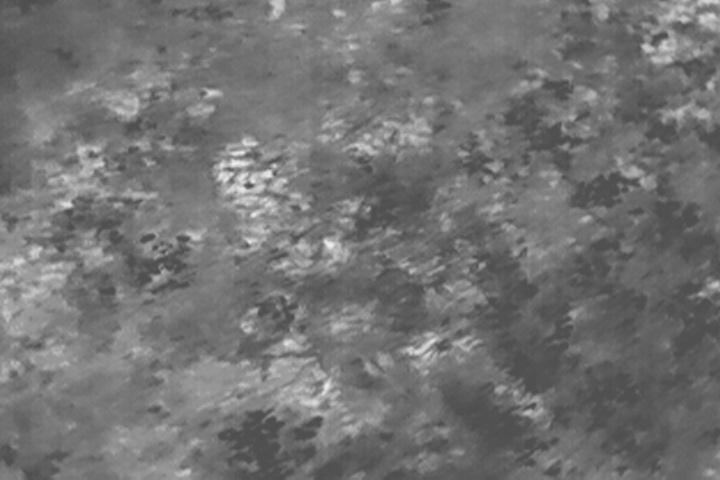landmine: (215, 133, 289, 217)
